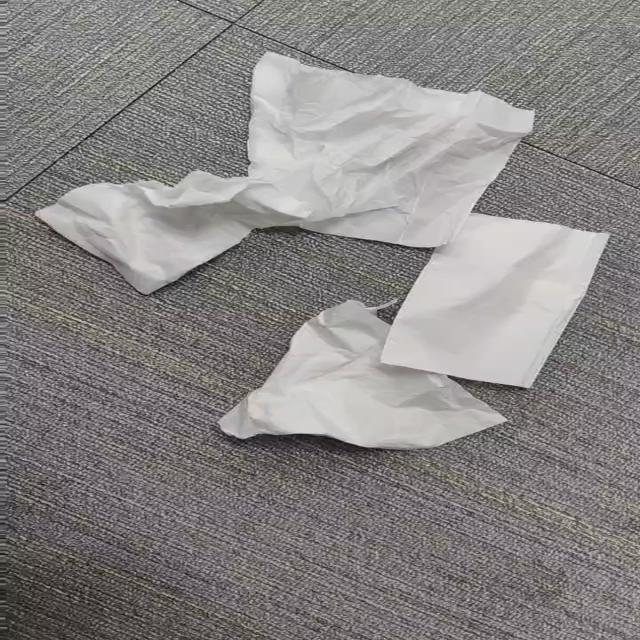paper: (36, 52, 608, 449)
